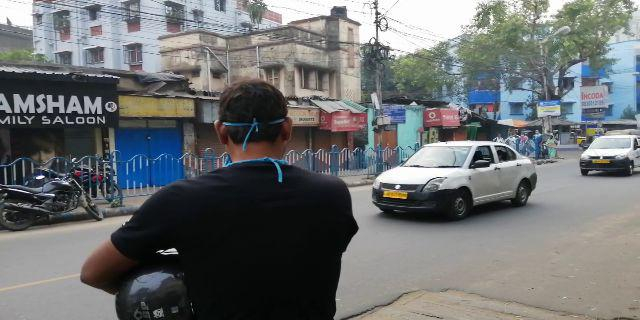Car: (370, 145, 541, 219), (578, 139, 634, 177)
Motorbike: (1, 168, 106, 228)
